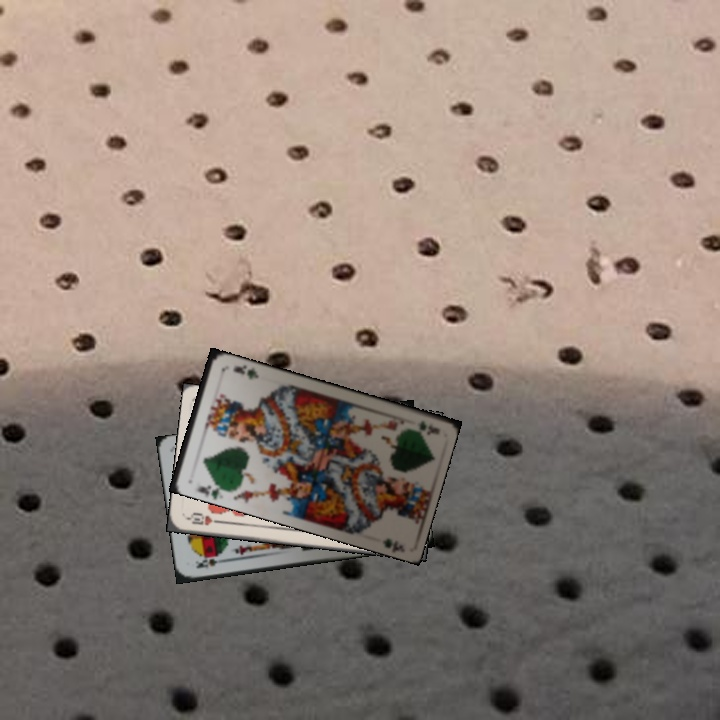GK: (193, 479, 227, 500), (413, 417, 436, 436)
H10: (183, 509, 224, 528)
SK: (192, 555, 229, 571)
